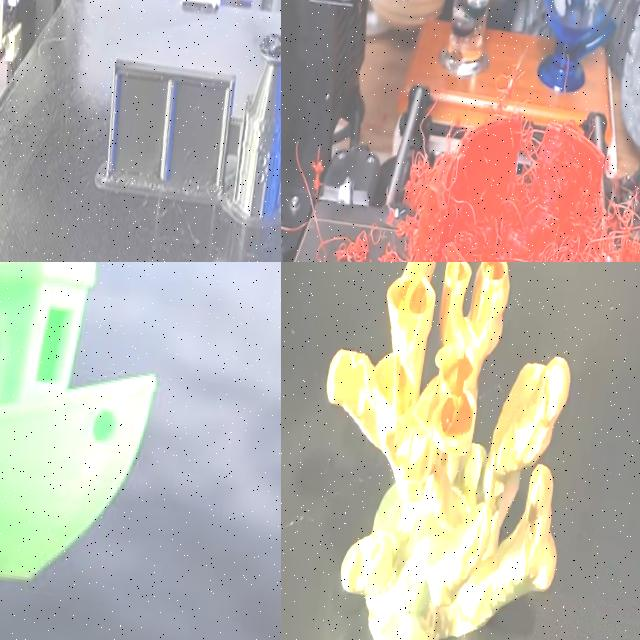spaghetti: (482, 123, 640, 262), (287, 135, 435, 262)
